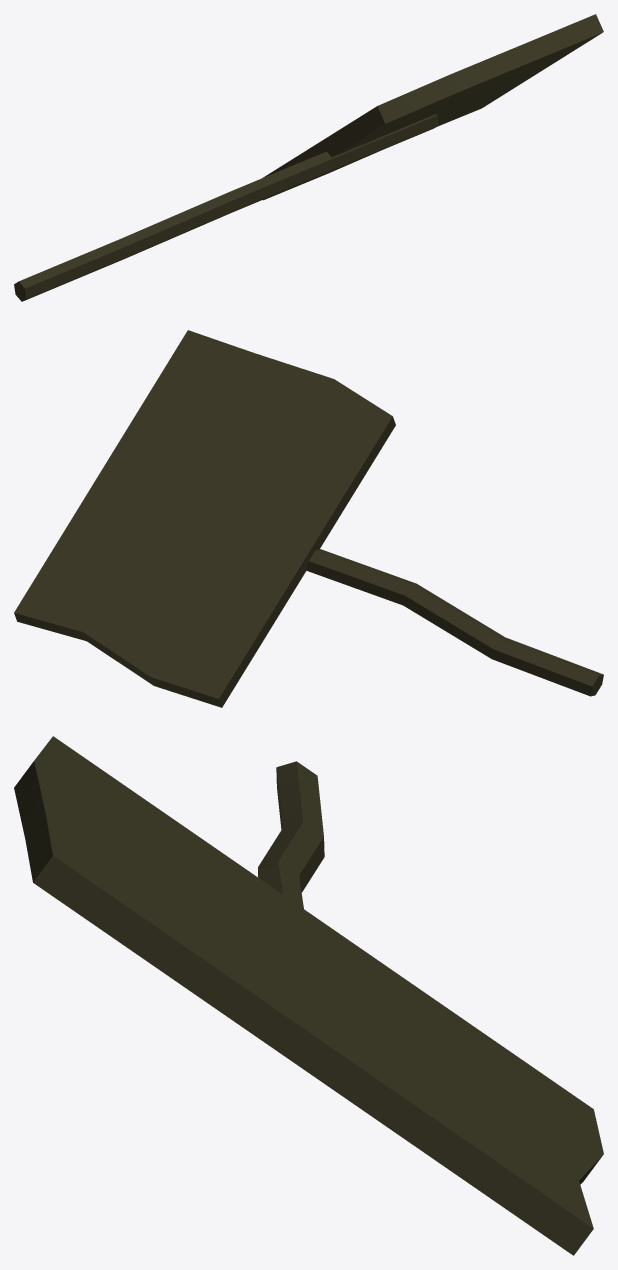
File: Projectile_Picketsign.FBX
3 views of the same model, one above another, from view 1: azimuth 30°, elevation 25°; view 2: azimuth 150°, elevation 25°; view 3: azimuth 270°, elevation 25° (orthographic). The views are drawn at different scales.
Parts seen in each view (by area): view 1: Box018; view 2: Box018; view 3: Box018.
Part boxes in pixels (x1,y1,x2,y2): Box018: [14, 14, 603, 301]; Box018: [14, 330, 603, 707]; Box018: [14, 736, 603, 1255].
Bounding box in the file's own units: 9.72 × 4.28 × 5.22.
